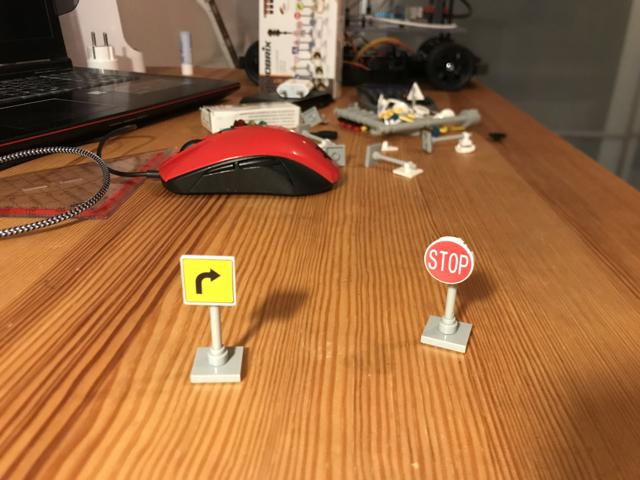fahrtrichtung rechts: (178, 253, 236, 307)
stop: (422, 236, 476, 286)
